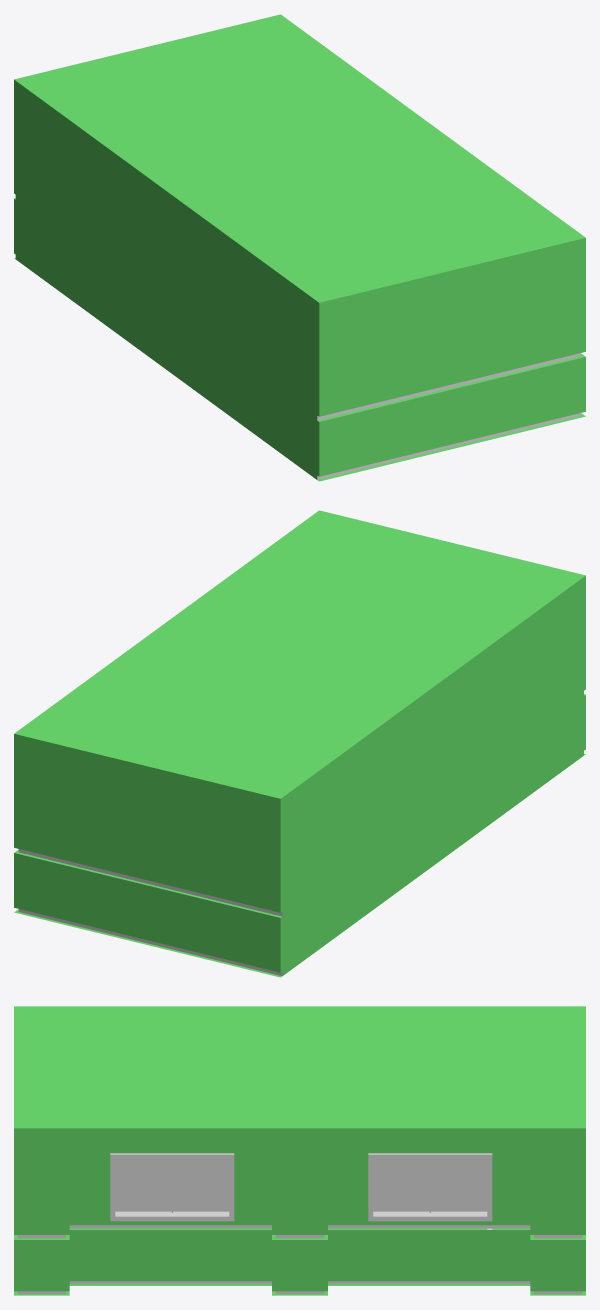
The model's file is building_main.fbx.
3 views of the same model, one above another, from view 1: azimuth 30°, elevation 25°; view 2: azimuth 150°, elevation 25°; view 3: azimuth 270°, elevation 25° (orthographic). The views are drawn at different scales.
Visible parts, largest first — view 1: room novo.002; view 2: room novo.002; view 3: room novo.002.
Part boxes in pixels (<box>): room novo.002: <box>14,14,585,481</box>; room novo.002: <box>14,510,585,977</box>; room novo.002: <box>14,1006,585,1295</box>.
Size of the model in its own units: 124 by 79.31 by 245.
